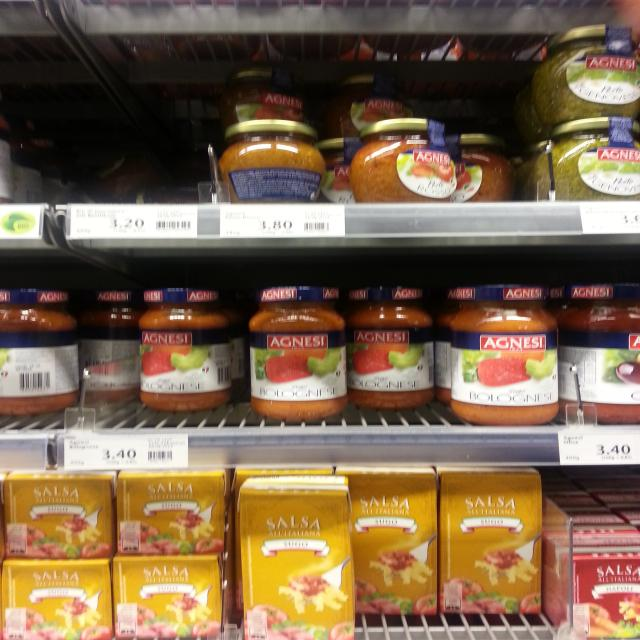Sauce: (241, 472, 357, 640), (438, 468, 546, 616), (332, 464, 438, 611), (445, 286, 556, 426), (246, 287, 347, 423), (136, 287, 230, 410), (558, 282, 640, 422), (347, 287, 436, 409), (526, 27, 640, 122), (0, 473, 116, 561), (0, 291, 86, 407), (214, 121, 332, 205), (112, 556, 230, 640), (349, 114, 461, 201), (552, 533, 640, 640), (527, 119, 640, 199), (120, 473, 230, 555), (0, 559, 109, 640), (82, 290, 154, 403), (220, 68, 304, 120), (334, 76, 407, 132)
